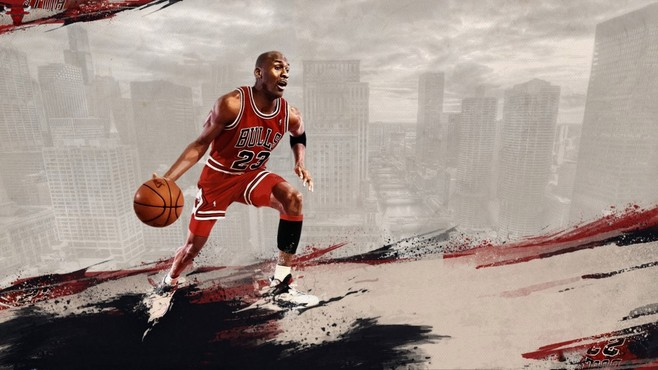ball: (133, 178, 185, 228)
